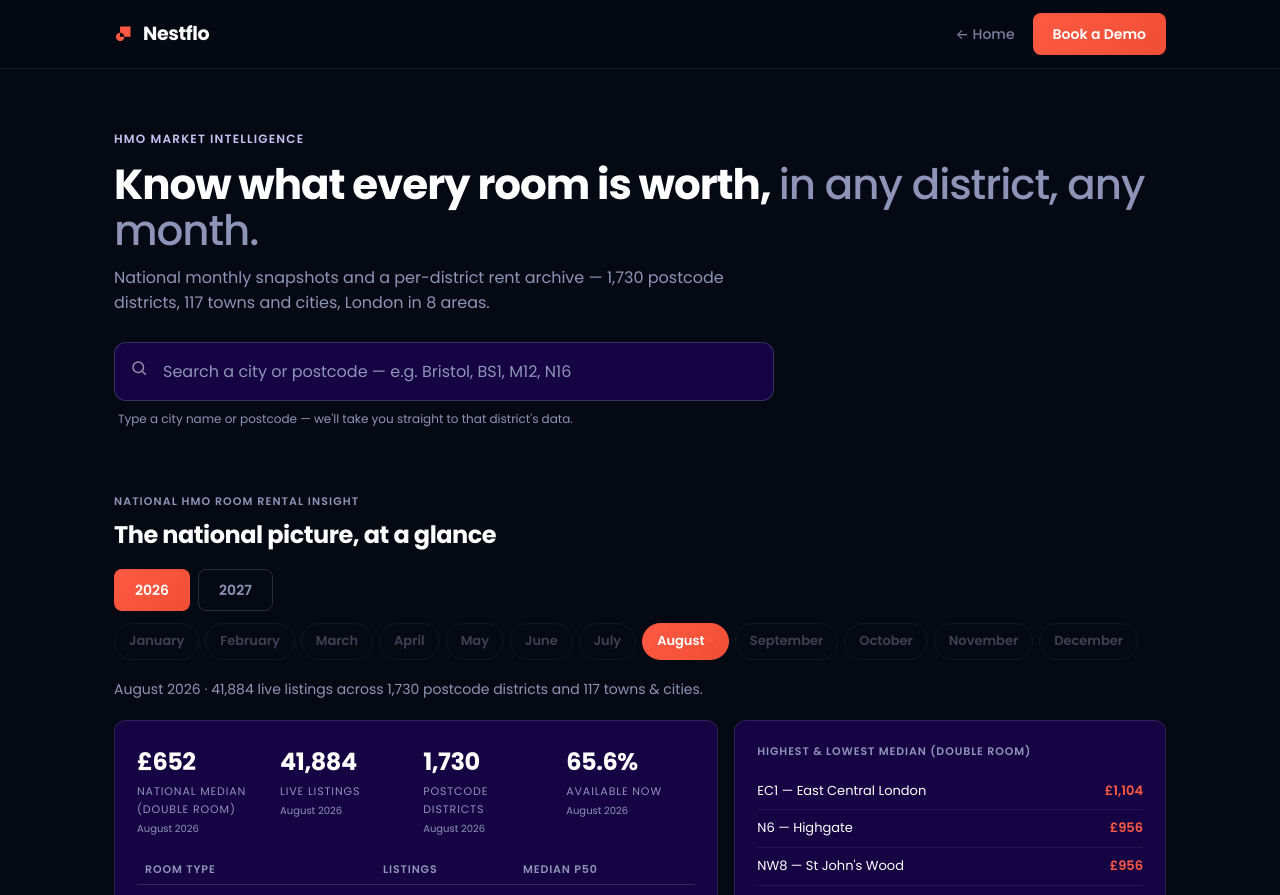
Test case: AC-3/AC-4 hero copy and search interaction › shows an empty-state row when nothing matches
Type "zzzz" into the dropdown with placeholder "Search a city or postcode — e.g. Bristol, BS1, M12, N16" at (444, 372), box [114, 342, 774, 401]
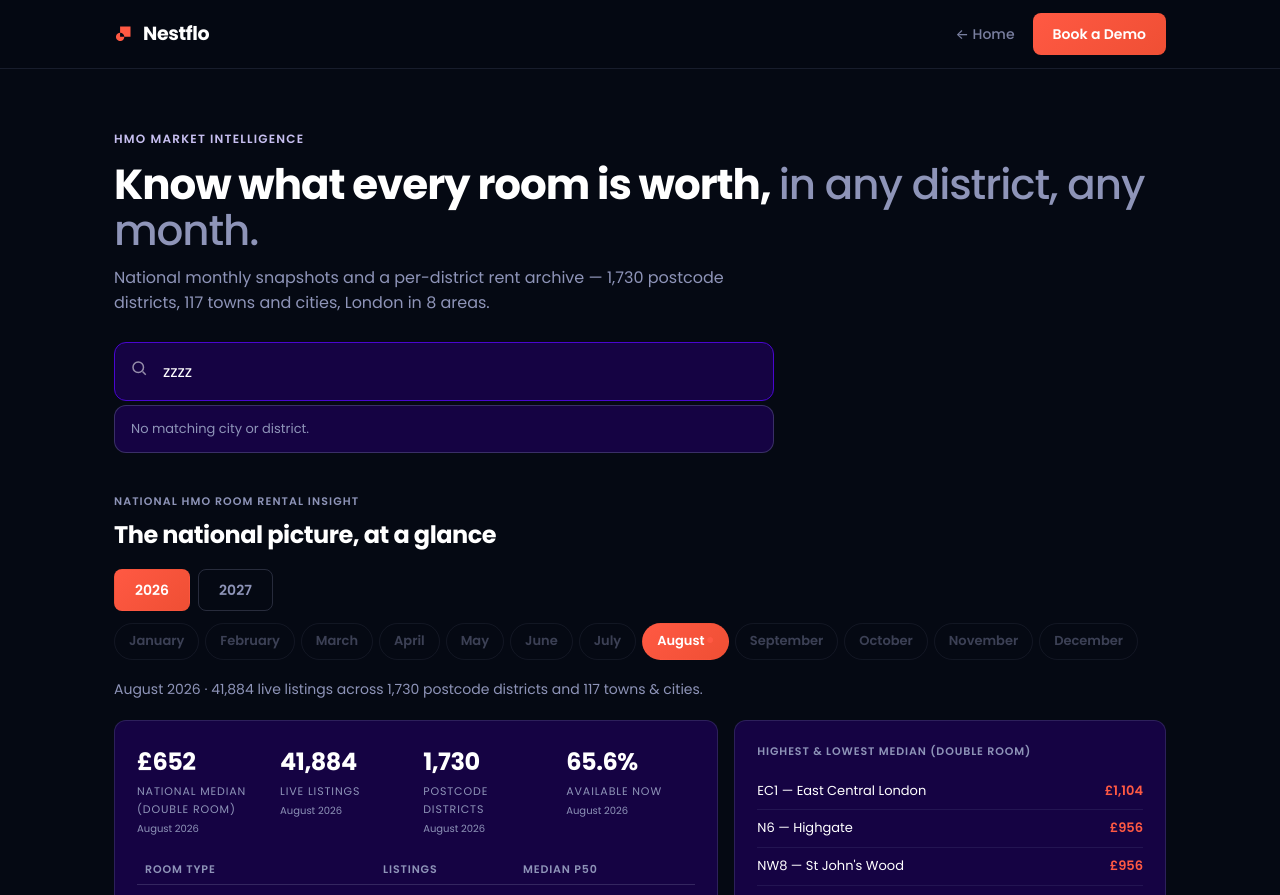
Now the list "No matching city or district." is shown, box [114, 404, 774, 453]
